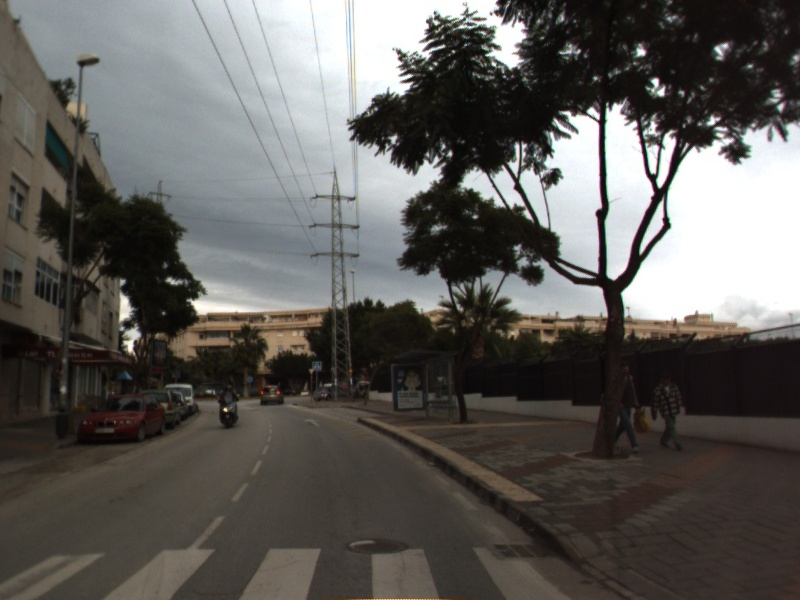STRAIGHT: (301, 415, 323, 428)
